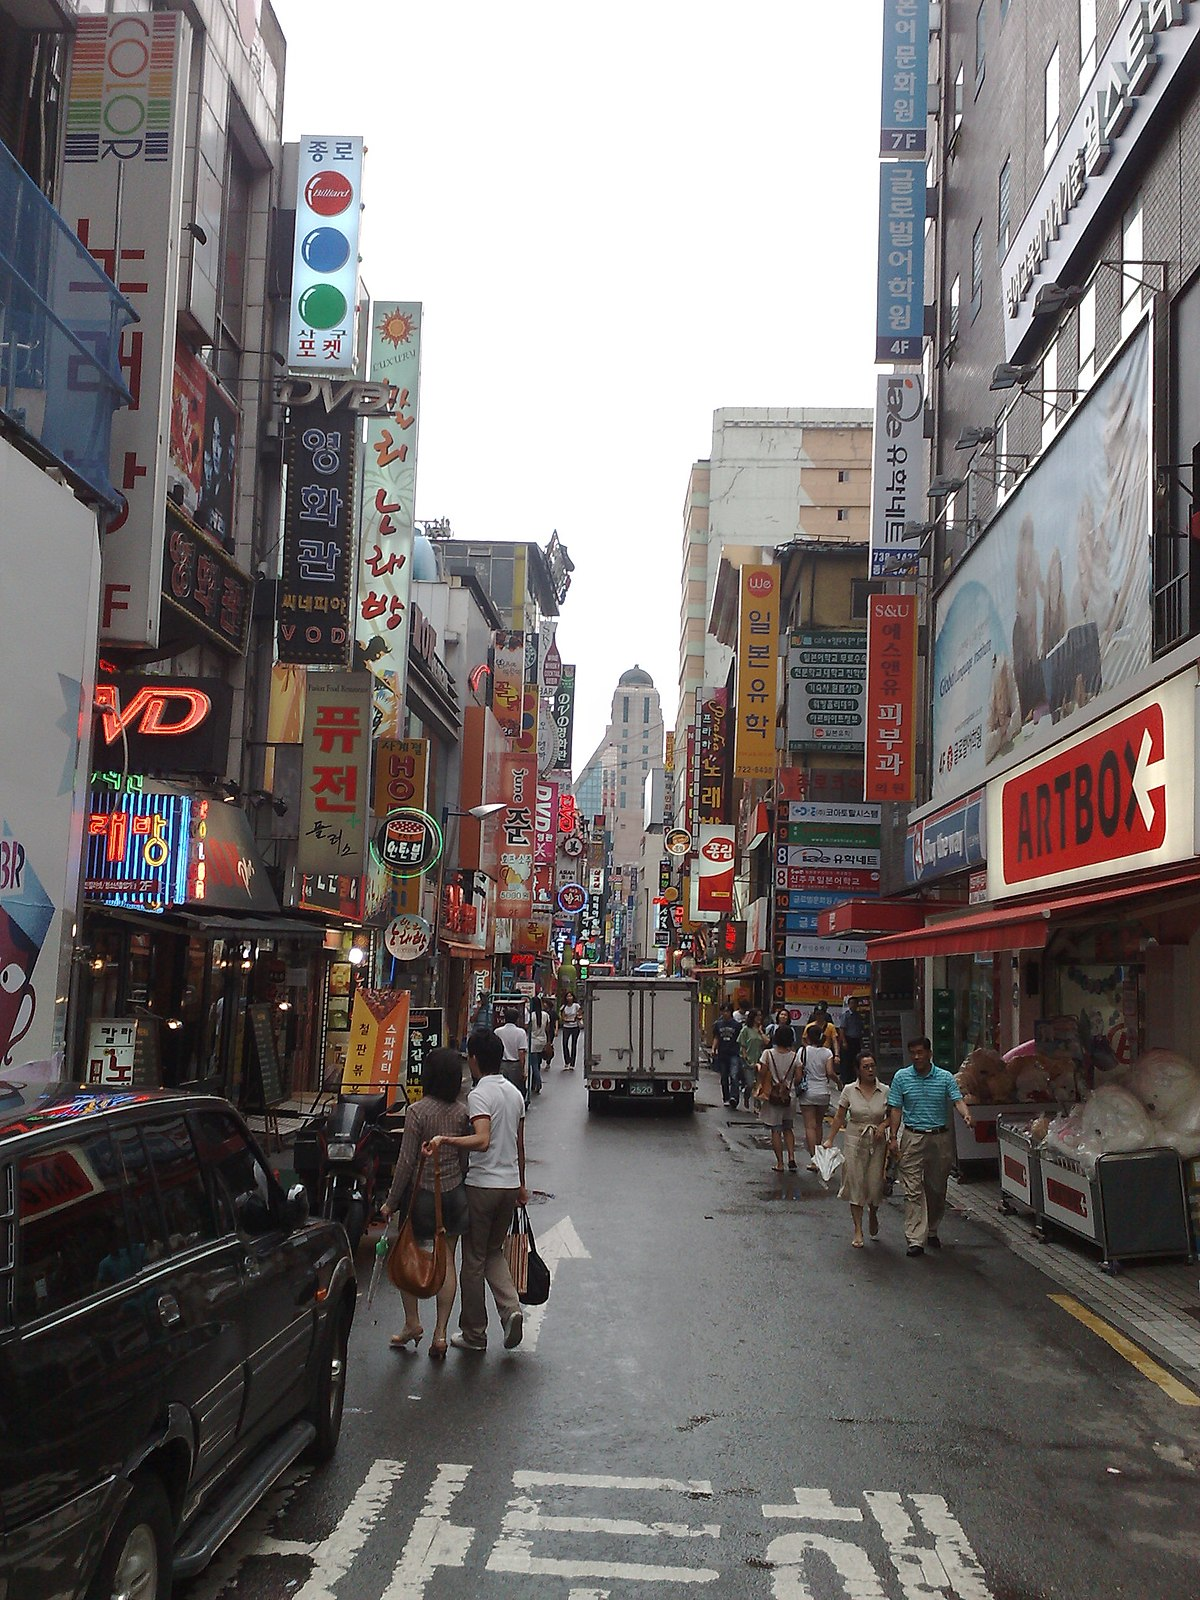person: (889, 1040, 971, 1261), (825, 1056, 889, 1244)
